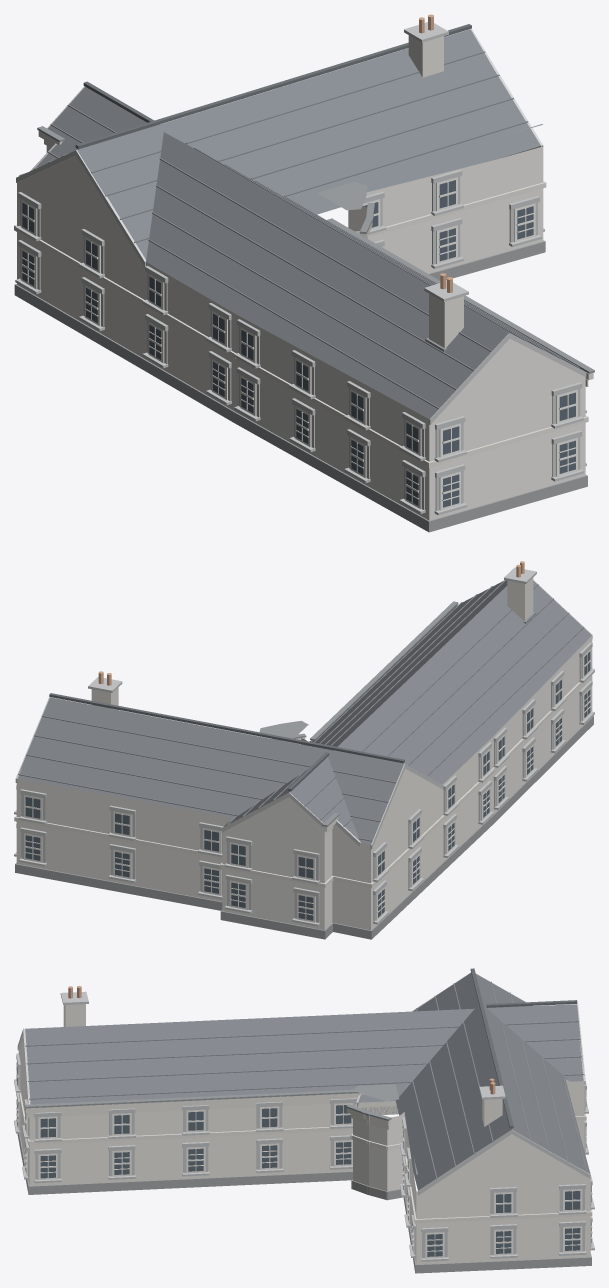
3 renders of one model, top to bottom at view 1: azimuth 30°, elevation 25°; view 2: azimuth 150°, elevation 25°; view 3: azimuth 270°, elevation 25°, orthographic. The views are drawn at different scales.
Parts seen in each view (by area): view 1: slate, harl, stone_band, plinth, frame, slate_lt, string, lead, chim_render, slate_dk; view 2: slate, harl, stone_band, plinth, frame, slate_lt, string, slate_dk, lead, chim_render; view 3: slate, harl, stone_band, string, plinth, frame, slate_lt, lead, slate_dk, chim_render.
Part boxes in pixels (left/top/right/bottom): slate: left=35, top=29, right=580, bottom=419; harl: left=17, top=145, right=585, bottom=520; stone_band: left=15, top=22, right=586, bottom=515; plinth: left=14, top=240, right=587, bottom=532; frame: left=21, top=177, right=577, bottom=510; slate_lt: left=19, top=51, right=579, bottom=408; string: left=14, top=131, right=593, bottom=467; lead: left=37, top=124, right=594, bottom=373; chim_render: left=408, top=35, right=463, bottom=347; slate_dk: left=75, top=24, right=471, bottom=149; slate: left=17, top=580, right=591, bottom=844; harl: left=16, top=635, right=592, bottom=930; stone_band: left=14, top=567, right=594, bottom=926; plinth: left=15, top=715, right=593, bottom=939; frame: left=24, top=649, right=590, bottom=922; slate_lt: left=18, top=580, right=584, bottom=841; string: left=14, top=604, right=594, bottom=888; slate_dk: left=49, top=693, right=404, bottom=791; lead: left=259, top=601, right=536, bottom=826; chim_render: left=91, top=578, right=533, bottom=709; slate: left=25, top=973, right=590, bottom=1190; harl: left=18, top=1036, right=590, bottom=1264; stone_band: left=14, top=972, right=594, bottom=1261; string: left=18, top=1092, right=592, bottom=1223; plinth: left=17, top=1106, right=591, bottom=1273; frame: left=16, top=1062, right=592, bottom=1258; slate_lt: left=25, top=981, right=587, bottom=1178; lead: left=24, top=1084, right=417, bottom=1174; slate_dk: left=470, top=968, right=577, bottom=1128; chim_render: left=63, top=1004, right=502, bottom=1126.
Bounding box in the file's own units: 19.54 × 8.95 × 28.38.
